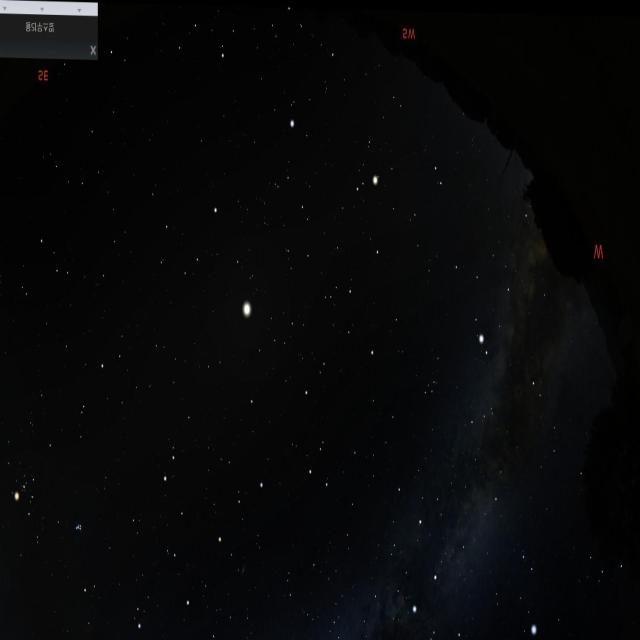aquila: (453, 216, 536, 356)
cygnus: (406, 483, 502, 640)
lyra: (522, 536, 546, 640)
pleiades: (71, 508, 89, 544)
taurus: (7, 428, 92, 572)
